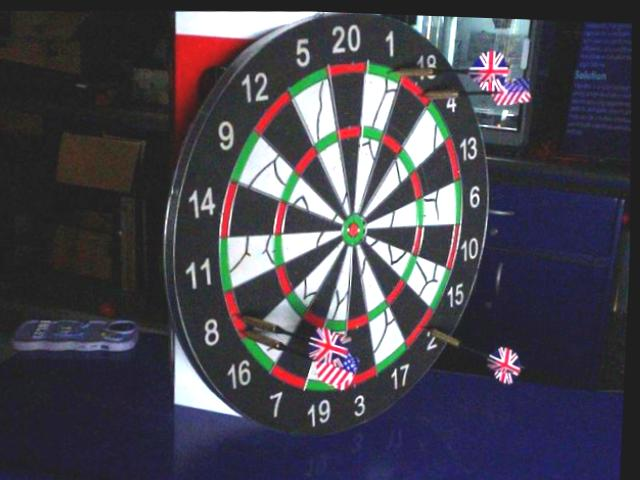double_1: (368, 64, 400, 82)
double_18: (400, 78, 434, 107)
double_2: (407, 311, 434, 349)
double_8: (227, 296, 249, 339)
